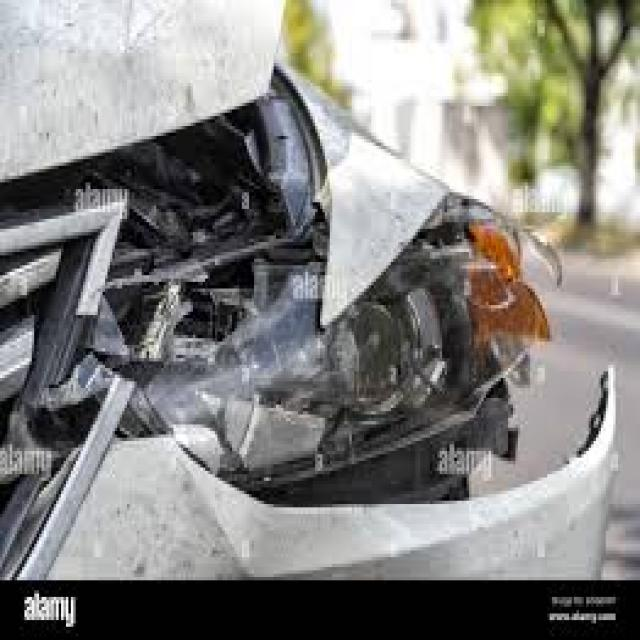damaged-head-light: (148, 195, 540, 482)
